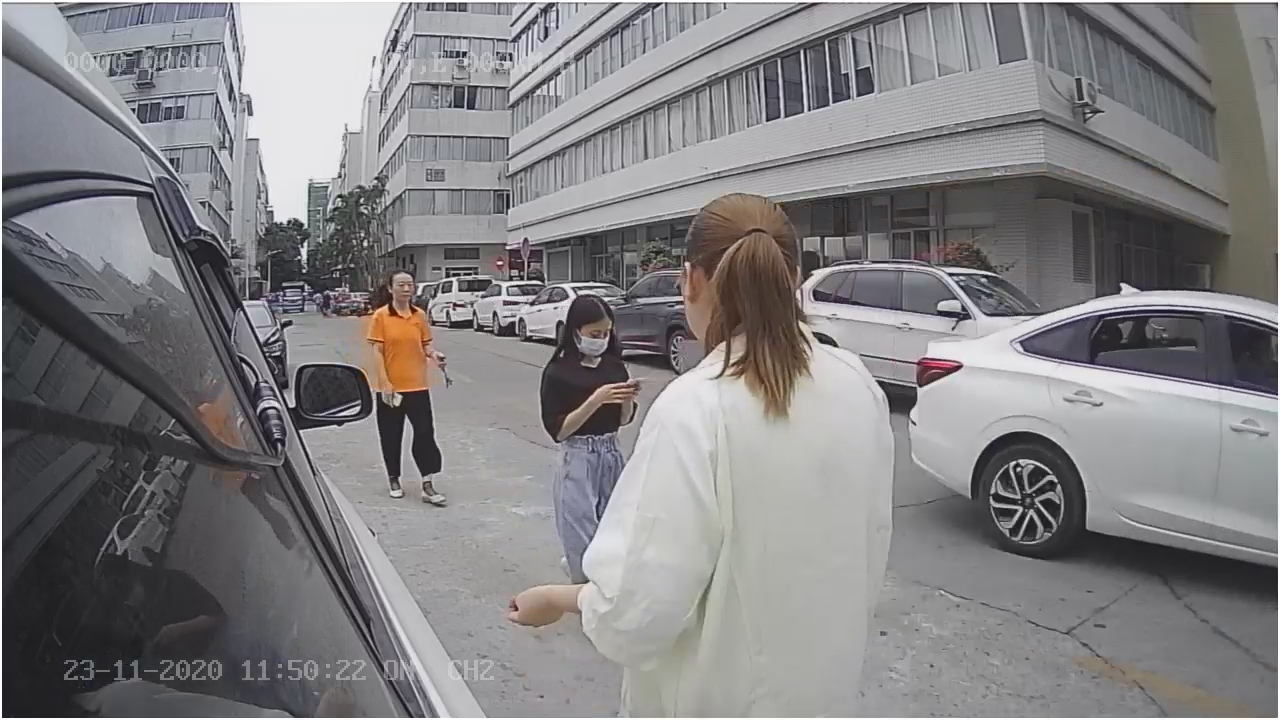person: (359, 274, 454, 505)
